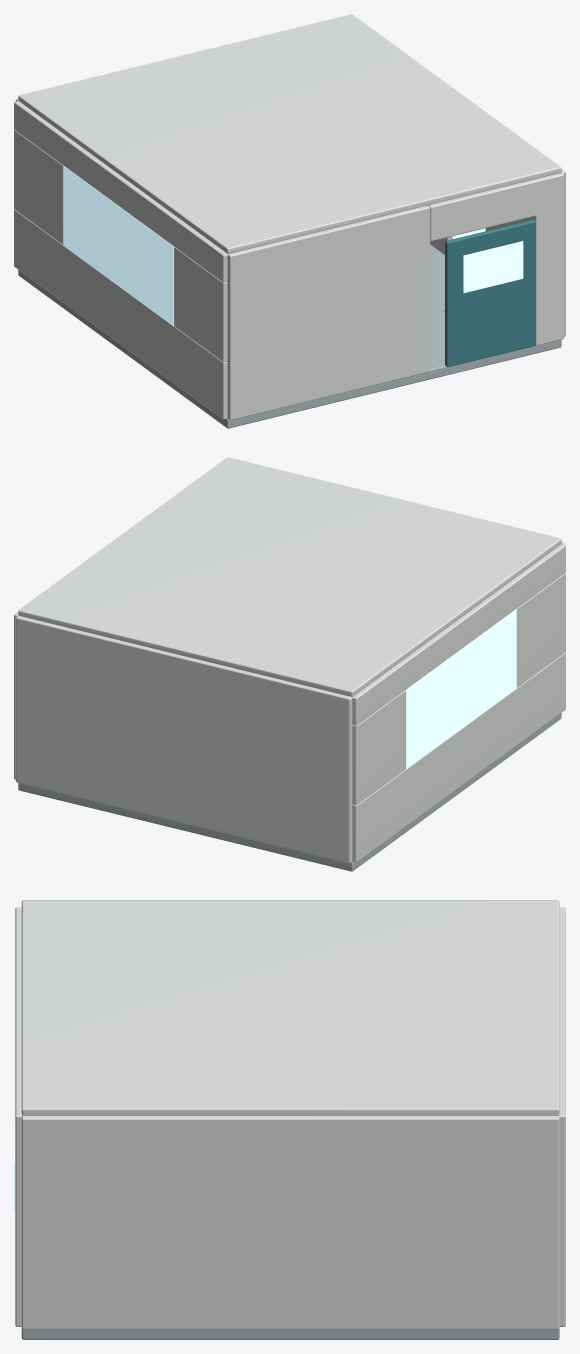
File: nursing-room.glb
The picture shows the model from 3 angles, top to bottom: view 1: azimuth 30°, elevation 25°; view 2: azimuth 150°, elevation 25°; view 3: azimuth 270°, elevation 25°; orthographic projection. The views are drawn at different scales.
Parts seen in each view (by area): view 1: Ceiling, Entrance left wall, Window wall base, Entrance door, Window daylight, Window wall upper, NR_Floor, Entrance right wall, Window wall side, Entrance lintel, Window wall side.001, Door glass (+1 smaller); view 2: Ceiling, Back wall, Window wall base, Window daylight, Window wall upper, Window wall side.001, NR_Floor, Window wall side; view 3: Ceiling, Right wall, NR_Floor, Back wall, Entrance right wall, Entrance left wall.
Boxes of the visible parts, box(x1,y1,x2,y2) form: Ceiling: box(18, 14, 561, 253); Entrance left wall: box(227, 205, 430, 420); Window wall base: box(14, 209, 227, 419); Entrance door: box(445, 219, 535, 367); Window daylight: box(63, 166, 174, 326); Window wall upper: box(14, 101, 227, 282); NR_Floor: box(18, 245, 561, 428); Entrance right wall: box(531, 173, 564, 345); Window wall side: box(174, 247, 227, 361); Entrance lintel: box(428, 178, 539, 241); Window wall side.001: box(14, 130, 63, 244); Door glass: box(463, 241, 523, 293); Ceiling: box(18, 457, 561, 696); Back wall: box(15, 616, 352, 863); Window wall base: box(352, 652, 565, 862); Window daylight: box(405, 609, 516, 769); Window wall upper: box(352, 544, 565, 725); Window wall side.001: box(352, 690, 405, 804); NR_Floor: box(18, 713, 561, 871); Window wall side: box(516, 573, 565, 687); Ceiling: box(21, 900, 559, 1115); Right wall: box(21, 1115, 559, 1329); NR_Floor: box(21, 1328, 559, 1339); Back wall: box(559, 907, 565, 1326); Entrance right wall: box(15, 1100, 22, 1326); Entrance left wall: box(15, 907, 21, 1033).
Size of the model in its own units: 7.18 by 3.61 by 7.8.
